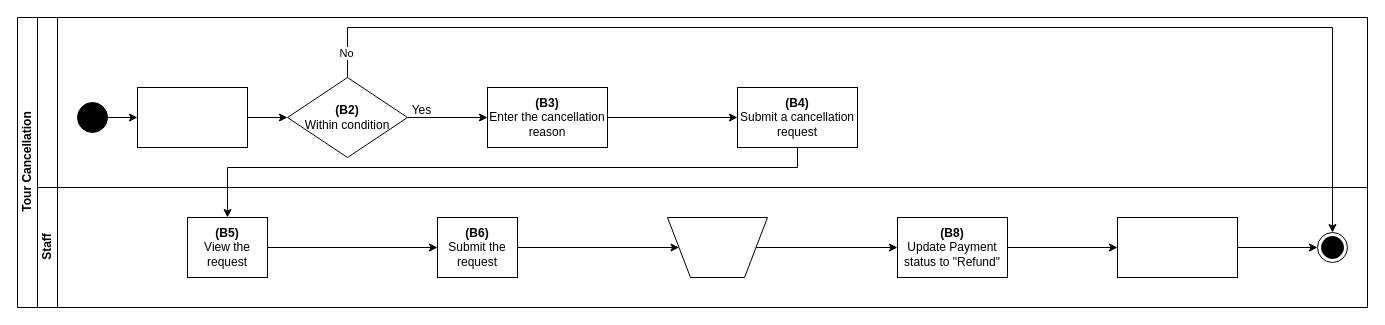
The diagram is 1385 pixels wide and 325 high, and some of its shapes have lost their labels. Here are the shapes that lost their labels. From the top down, the box of each, then its label:
(136, 86, 248, 148): (B1) Select a booked tour to cancel
(36, 16, 1368, 188): Customer
(666, 216, 768, 278): (B7) Process refund
(1116, 216, 1238, 278): (B9) Updates booking status to " Cancelled"
